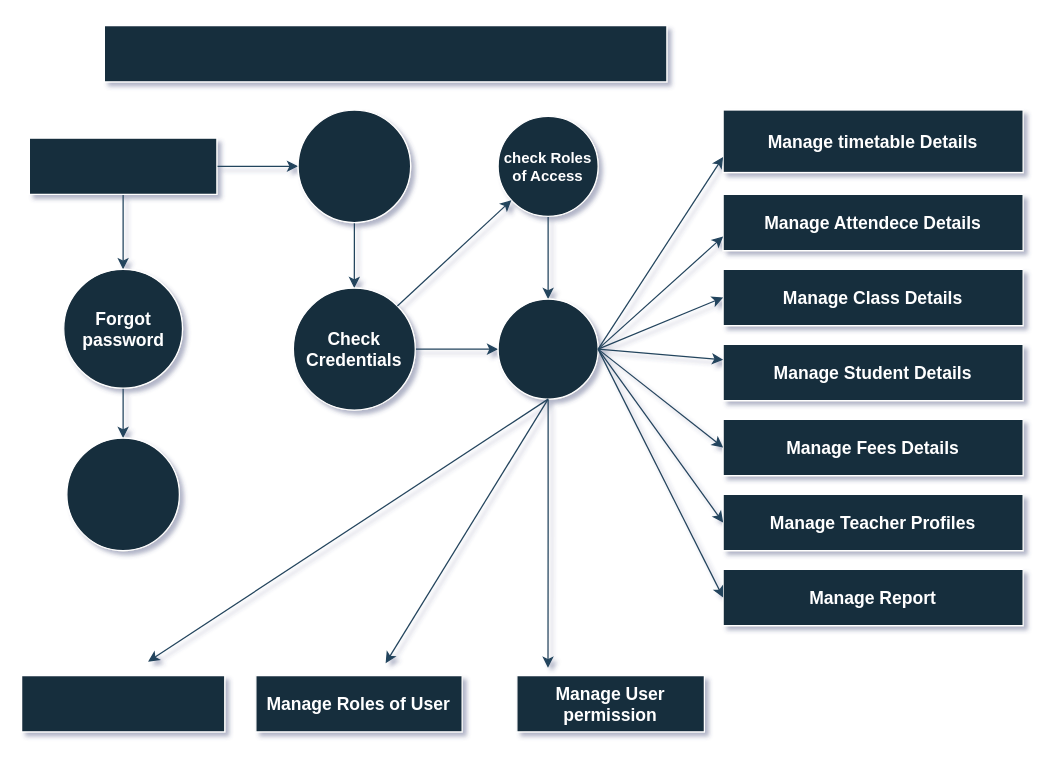
Image size: 1054x771. Some labels were removed from this diagram. The centre of each missing label's shape, as x and y in pixels:
"Admin" belongs at [122,165].
"Login to System" belongs at [354,165].
"Manage Modules" belongs at [547,348].
"Manage System Admins" belongs at [122,703].
"Send Email to user" belongs at [122,494].
"Student Information System" belongs at [385,53].
